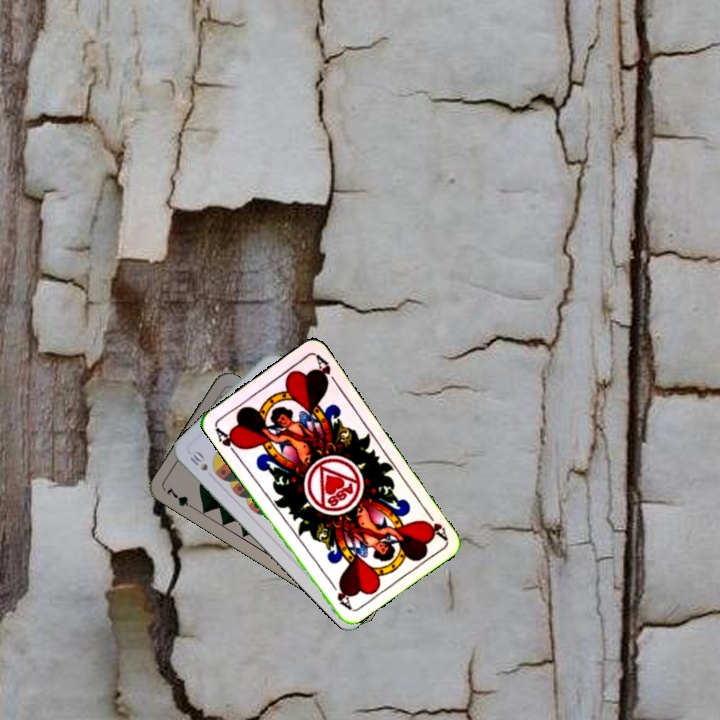G7: (162, 483, 199, 513)
HA: (211, 423, 245, 458), (419, 506, 450, 542)
S10: (186, 448, 210, 474)
